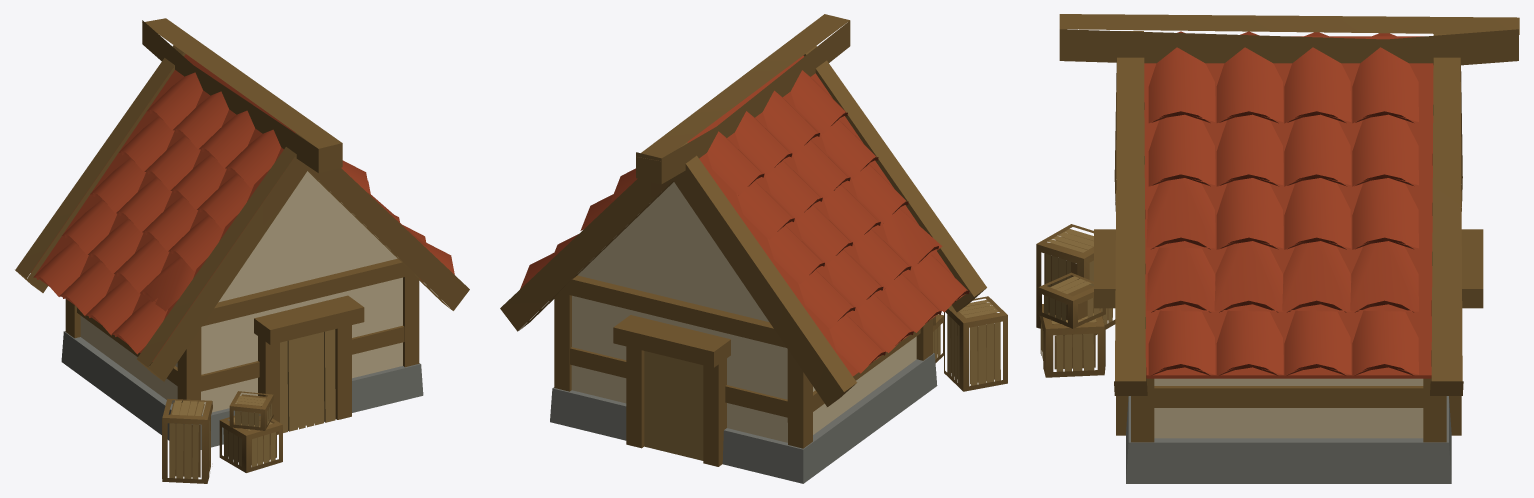
The model's file is house-1.glb.
The picture shows the model from 3 angles, left to right: view 1: azimuth 30°, elevation 25°; view 2: azimuth 150°, elevation 25°; view 3: azimuth 270°, elevation 25°; orthographic projection. The views are drawn at different scales.
Parts seen in each view (by area): view 1: house-1; view 2: house-1; view 3: house-1.
Part boxes in pixels (x1,y1,x2,y2): house-1: (15,18,469,483); house-1: (500,14,1007,483); house-1: (1036,14,1519,483).
Size of the model in its own units: 2.5 by 2.17 by 2.43.
